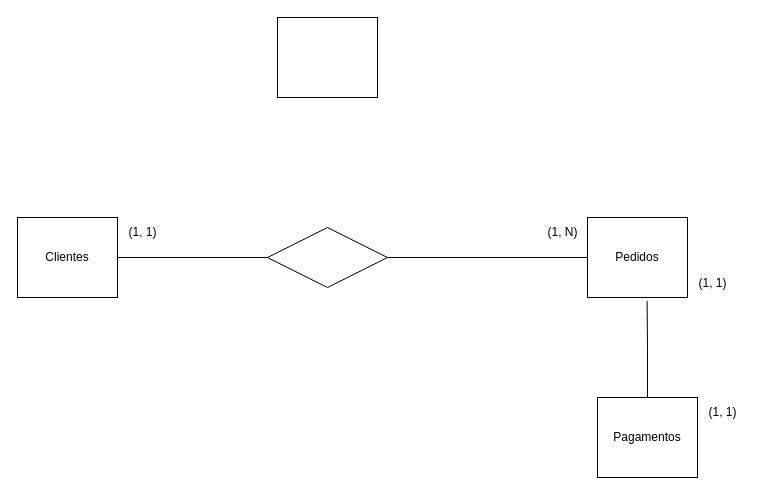
Some shapes in this 765 by 495 pixel diagram are drawn without their labels. Each missing label, with the box of its shape:
Possui: (266, 226, 388, 288)
Produtos: (276, 16, 378, 98)
